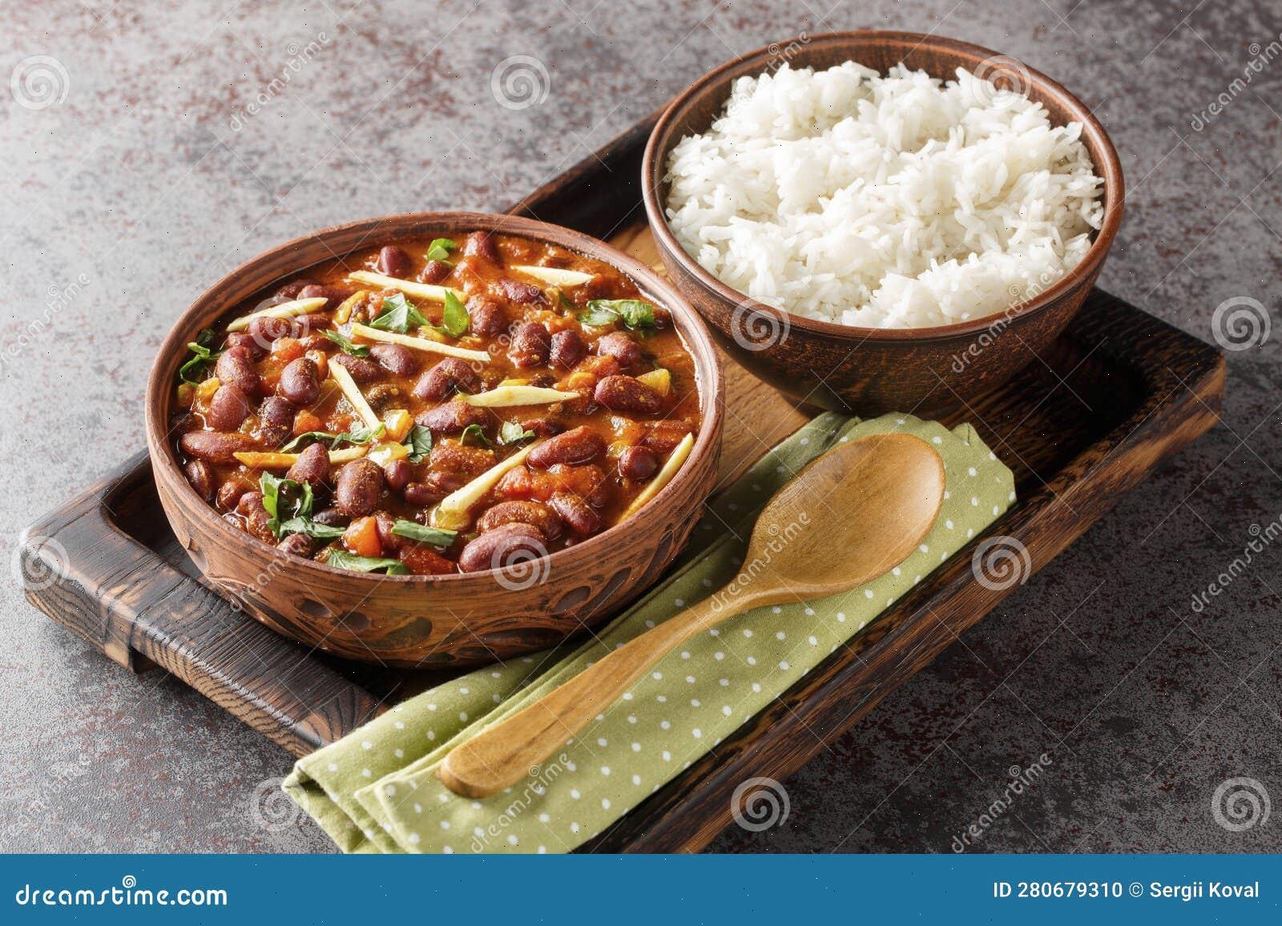rajma: (171, 232, 700, 644)
rice: (710, 72, 1140, 320)
